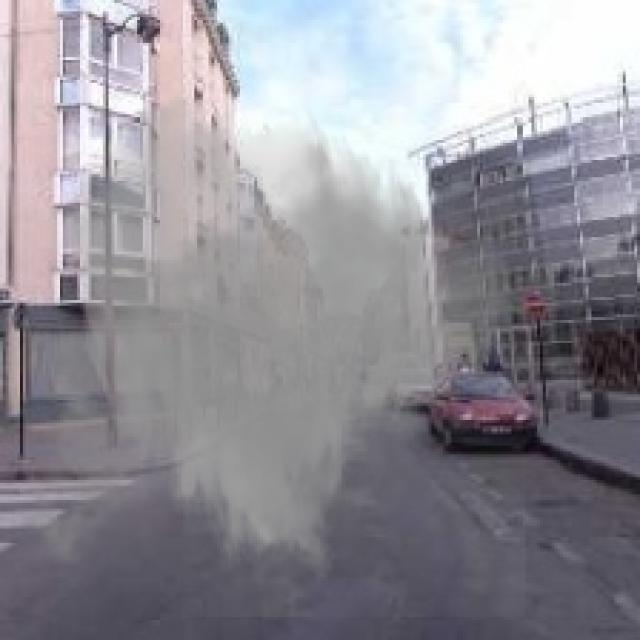Smoke: (11, 92, 526, 618)
